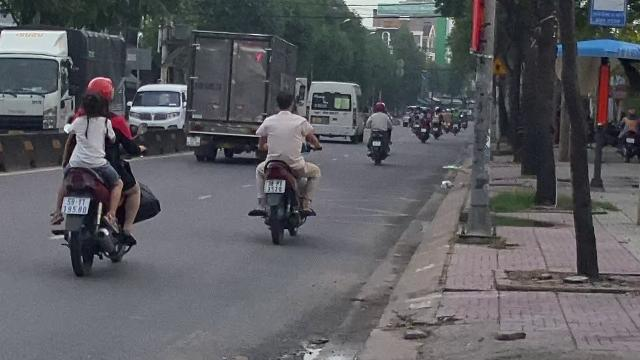helmet: (83, 76, 115, 104)
licenseplate: (62, 197, 90, 213), (265, 180, 285, 193)
motorcyclist: (46, 76, 148, 276), (247, 90, 321, 244)
nohelmet: (78, 95, 110, 121), (274, 91, 296, 113)
